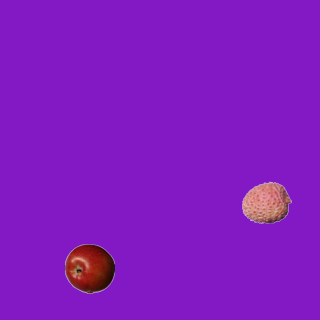Apple Braeburn: (64, 243, 114, 293)
Lychee: (241, 177, 291, 227)
